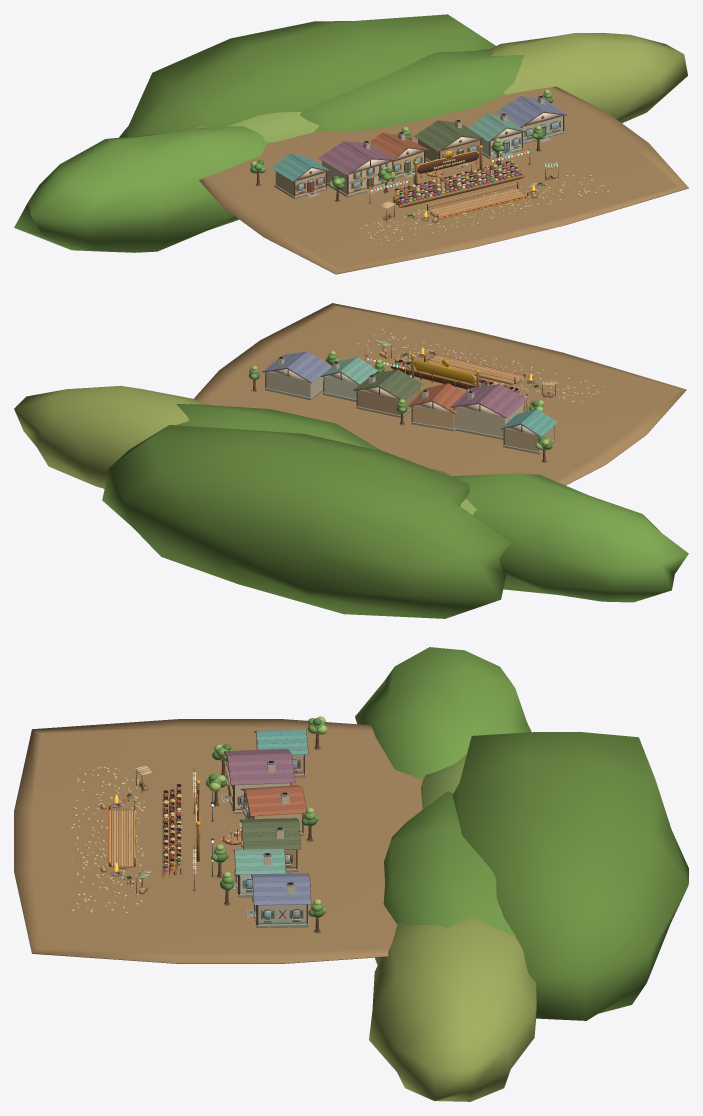
The model's file is plaza.glb.
3 renders of one model, top to bottom at view 1: azimuth 30°, elevation 25°; view 2: azimuth 150°, elevation 25°; view 3: azimuth 270°, elevation 25°, orthographic. The views are drawn at different scales.
Visible parts, largest first — view 1: estatico 0, estatico 2, estatico 1; view 2: estatico 0, estatico 2; view 3: estatico 0, estatico 2.
Part boxes in pixels (x1=…): estatico 0: x1=14, y1=14, x2=688, y2=274; estatico 2: x1=272, y1=96, x2=566, y2=181; estatico 1: x1=298, y1=116, x2=559, y2=190; estatico 0: x1=14, y1=303, x2=688, y2=618; estatico 2: x1=262, y1=351, x2=557, y2=436; estatico 0: x1=14, y1=647, x2=688, y2=1101; estatico 2: x1=224, y1=729, x2=310, y2=905.
Size of the model in its own units: 137 by 27.87 by 93.45.
